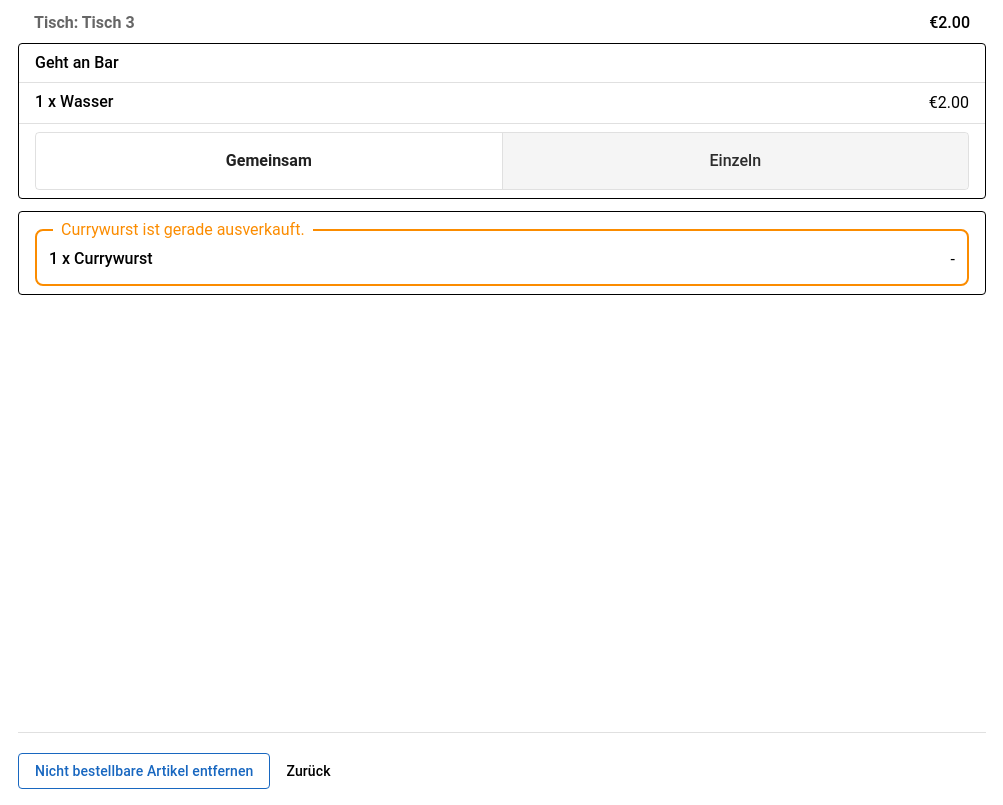
Test: an order holding something that cannot be ordered › lets the order be sent again once the blocking item is off it
Click the button with test id "drop-lines-that-cannot-be-ordered".
click(144, 771)  # box [18,753,270,789]
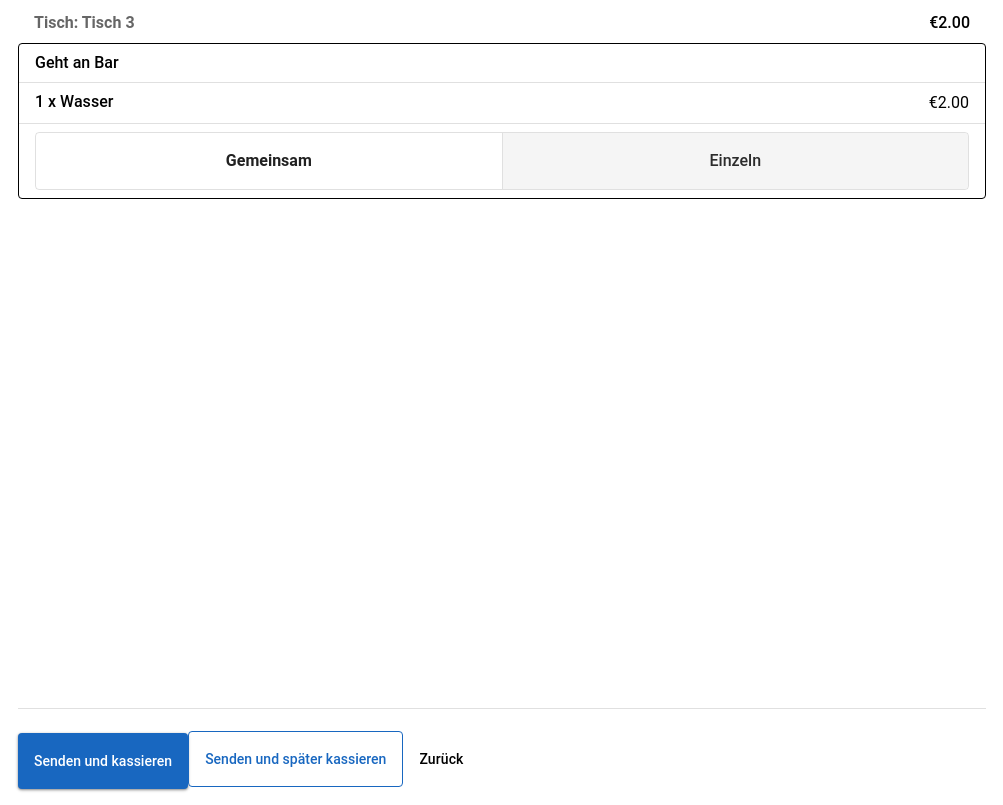
expect the button with test id "send-and-settle-later" is enabled: met, box [188,731,403,787]
